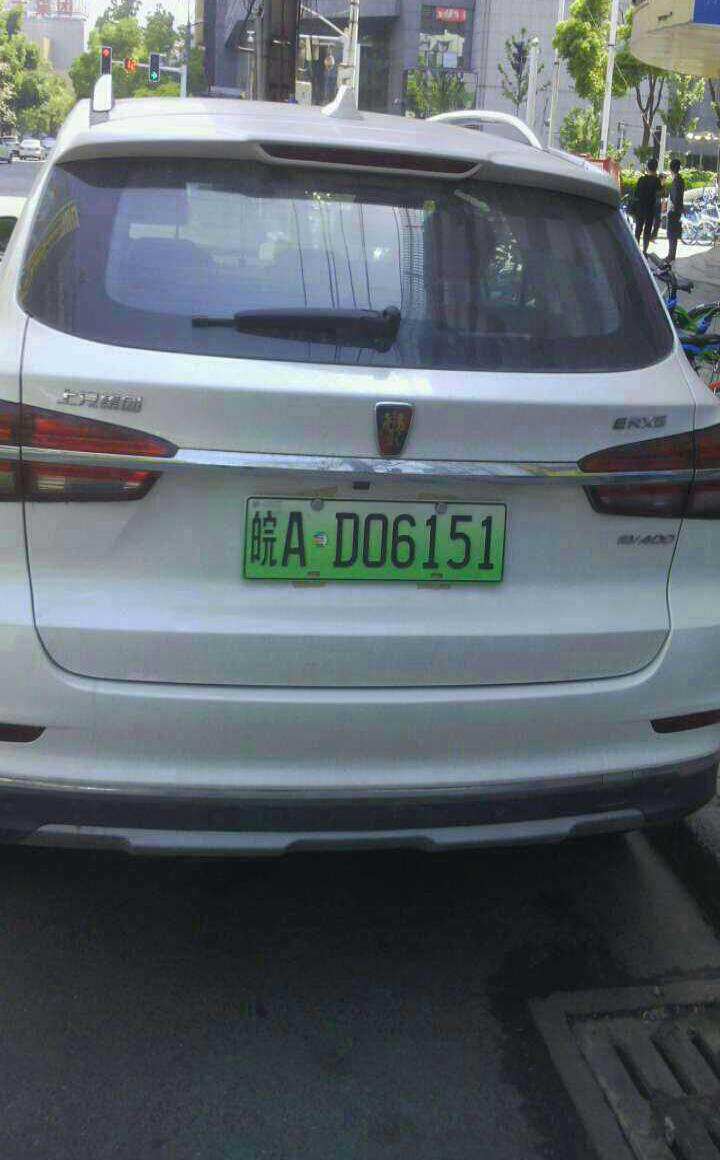car_id: (240, 494, 501, 580)
